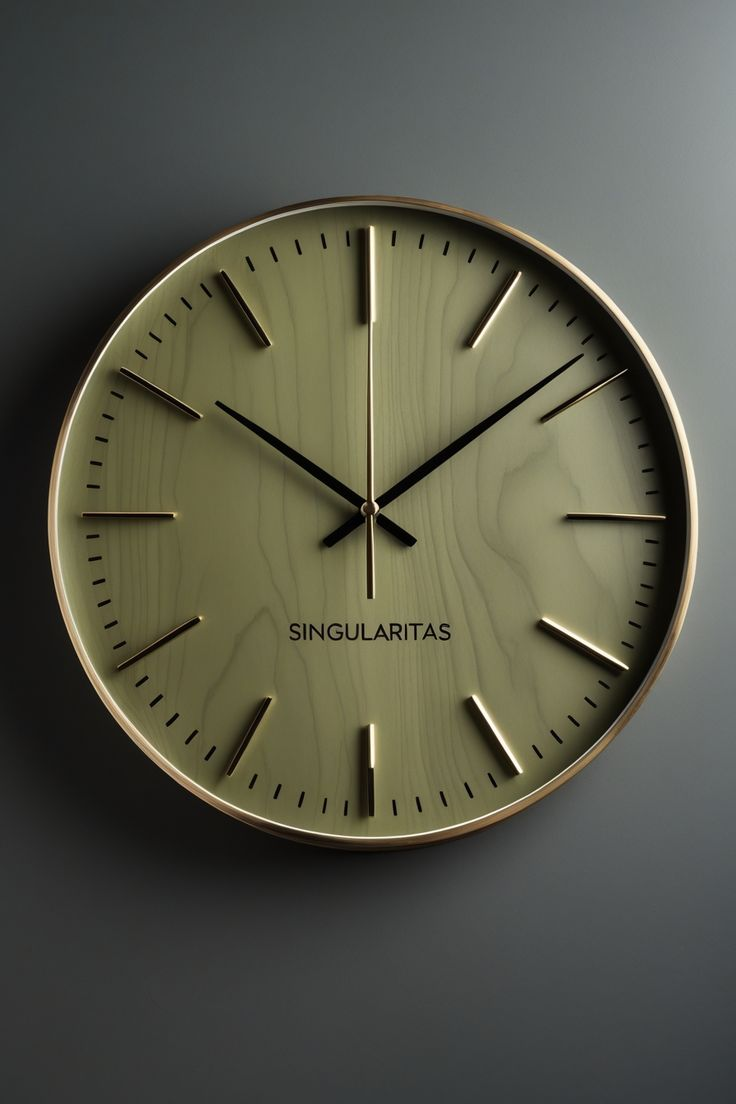clock: (8, 1, 736, 1101)
